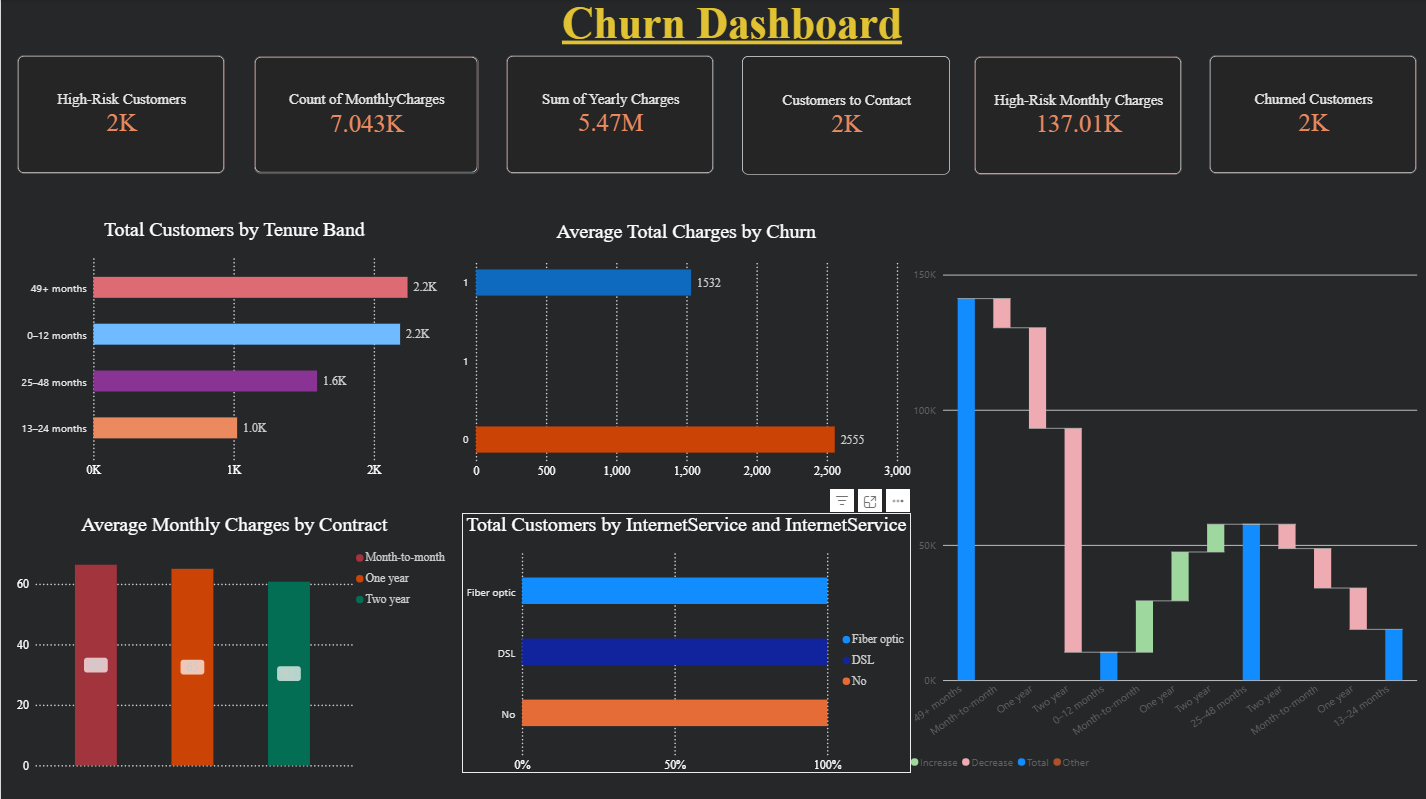

What the dashboard file says about the page in this screenshot:
{"tool":"powerbi","page":{"name":"Customer Segmentation","canvas":[1920,1080],"ordinal":2},"visuals":[{"type":"textbox","box":[48.1,0,1871.9,75],"z":0},{"type":"cardVisual","fields":{"Data":["measure.High-Risk Customers"]},"box":[21.6,75,280.1,160.2],"z":1000},{"type":"cardVisual","fields":{"Data":["CountNonNull(Telco_Churn.MonthlyCharges)"]},"box":[340.7,76.8,303,158.9],"z":2000},{"type":"cardVisual","fields":{"Data":["Sum(Telco_Churn.Yearly Charges)"]},"box":[680,75.4,280.1,160.2],"z":3000},{"type":"clusteredBarChart","fields":{"Category":["Customer_Risk.Tenure Band"],"Y":["measure.Total Customers"]},"box":[21.6,295.5,585.2,350.3],"z":4000},{"type":"lineStackedColumnComboChart","title":"Average Monthly Charges by Contract","fields":{"Category":["Customer_Risk.Contract"],"Series":["Customer_Risk.Contract"],"Y":["measure.Average Monthly Charges"]},"box":[21.6,691.9,585,350],"z":5000},{"type":"barChart","fields":{"Category":["Customer_Risk.Churn"],"Y":["measure.Average Total Charges"]},"box":[621.3,296.9,604,348.8],"z":6000},{"type":"hundredPercentStackedBarChart","fields":{"Category":["Raw_Telco.InternetService"],"Series":["Raw_Telco.InternetService"],"Y":["measure.Total Customers"]},"box":[621.3,691.9,604,350.3],"z":7000},{"type":"waterfallChart","title":"table","fields":{"Breakdown":["Telco_Churn.Contract"],"Category":["Customer_Risk.Tenure Band","Raw_Telco.customerID"],"Y":["Sum(Customer_Risk.tenure)"]},"box":[1224.1,325.9,683.2,716.4],"z":8000},{"type":"cardVisual","fields":{"Data":["measure.Customers to Contact"]},"box":[997.9,76.8,280.1,160.2],"z":9000},{"type":"cardVisual","fields":{"Data":["measure.High-Risk Monthly Charges"]},"box":[1310.3,76.8,280.1,160.2],"z":10000},{"type":"cardVisual","fields":{"Data":["measure.Churned Customers"]},"box":[1626.7,75.4,280.1,160.2],"z":11000}]}

Visuals, with their boxes in screenshot pixels (x1, y1, x2, y2), scaled from the page's 1920x1080 canvas onto the 1426x799 screenshot:
textbox: <region>36, 0, 1425, 55</region>
cardVisual - measure.High-Risk Customers: <region>16, 55, 224, 174</region>
cardVisual - CountNonNull(Telco_Churn.MonthlyCharges): <region>253, 57, 478, 174</region>
cardVisual - Sum(Telco_Churn.Yearly Charges): <region>505, 56, 713, 174</region>
clusteredBarChart - Customer_Risk.Tenure Band x measure.Total Customers: <region>16, 219, 451, 478</region>
"Average Monthly Charges by Contract" lineStackedColumnComboChart: <region>16, 512, 451, 771</region>
barChart - Customer_Risk.Churn x measure.Average Total Charges: <region>461, 220, 910, 478</region>
hundredPercentStackedBarChart - Raw_Telco.InternetService x Raw_Telco.InternetService: <region>461, 512, 910, 771</region>
"table" waterfallChart: <region>909, 241, 1417, 771</region>
cardVisual - measure.Customers to Contact: <region>741, 57, 949, 175</region>
cardVisual - measure.High-Risk Monthly Charges: <region>973, 57, 1181, 175</region>
cardVisual - measure.Churned Customers: <region>1208, 56, 1416, 174</region>
